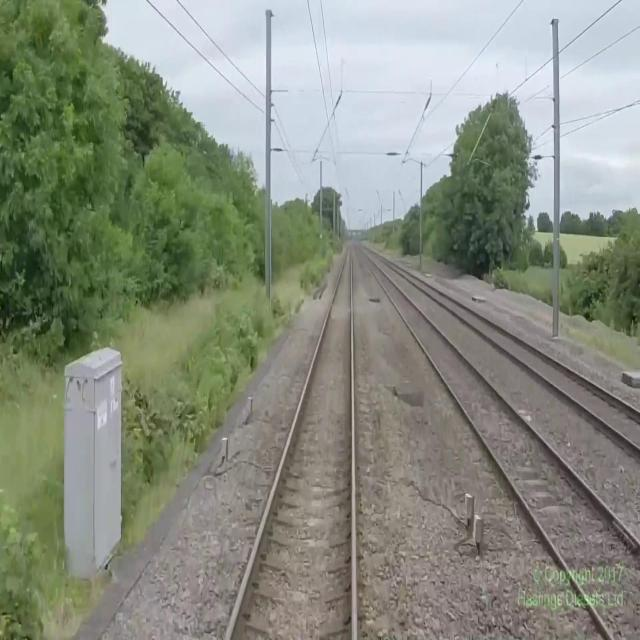rail-track: (357, 246, 640, 639), (363, 246, 640, 444), (229, 242, 351, 639)
